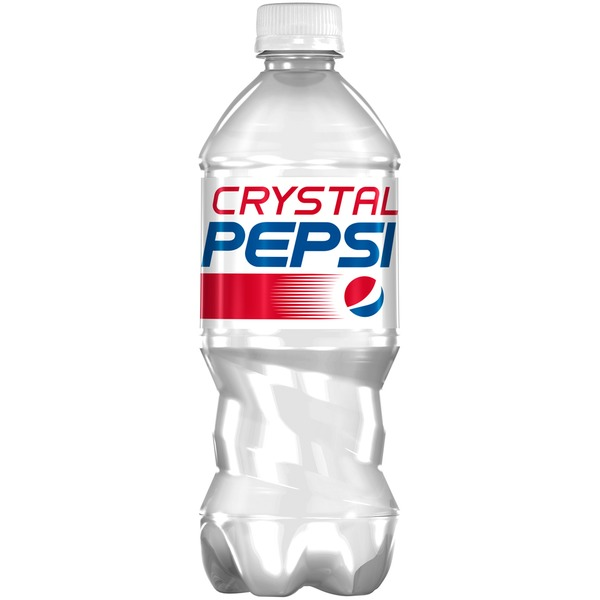pepsi: (343, 273, 384, 317)
